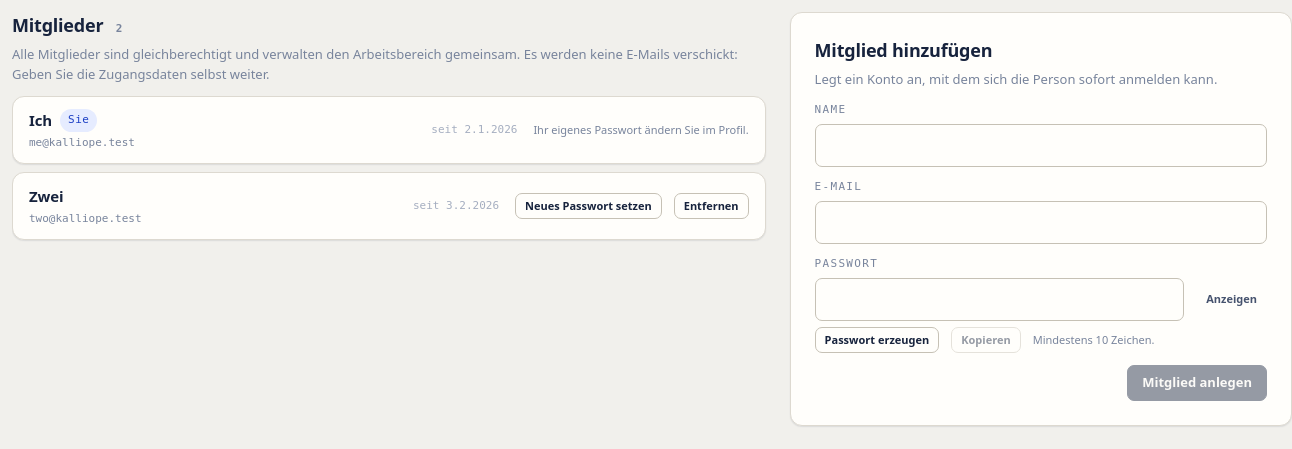
members › sets a new password for another member
Click the button "Neues Passwort setzen".
click(588, 206)  # box [515,193,662,219]
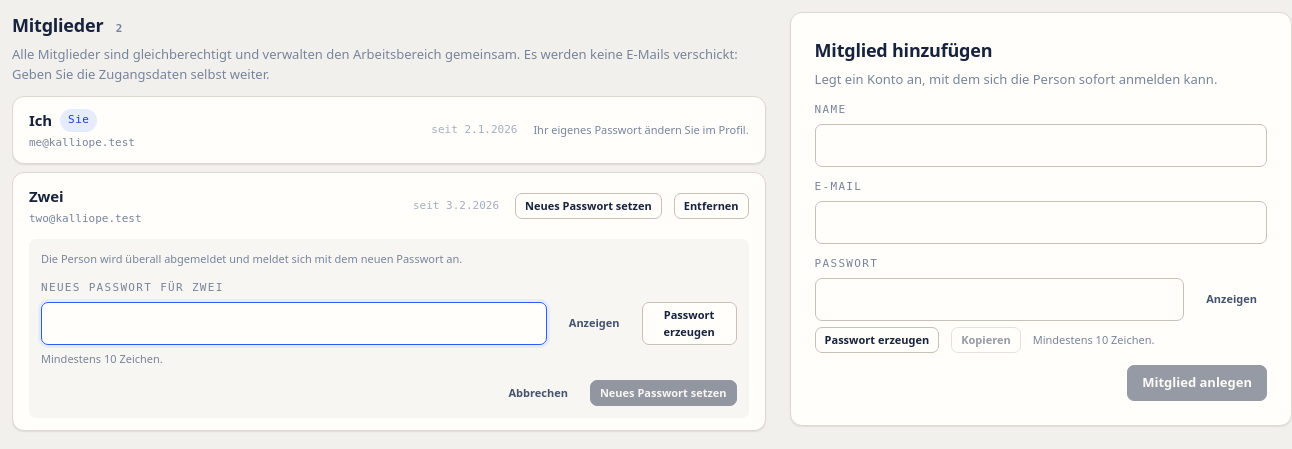
Type "another-password" into the password field with id "reset-u2".
click(294, 324); type("another-password")  # box [41,302,547,345]
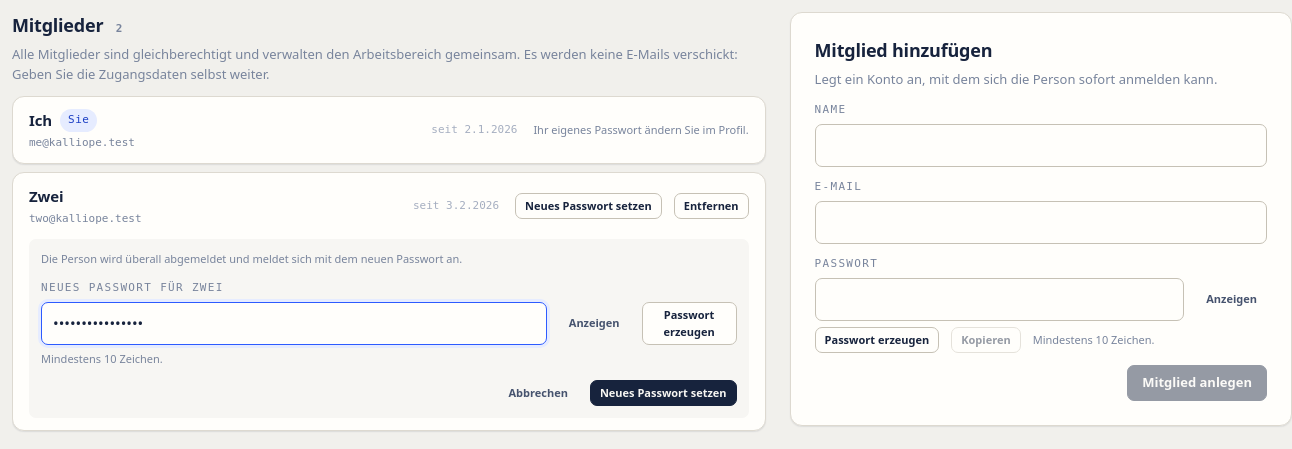
Submit the 2nd form, box [29,239,749,418]
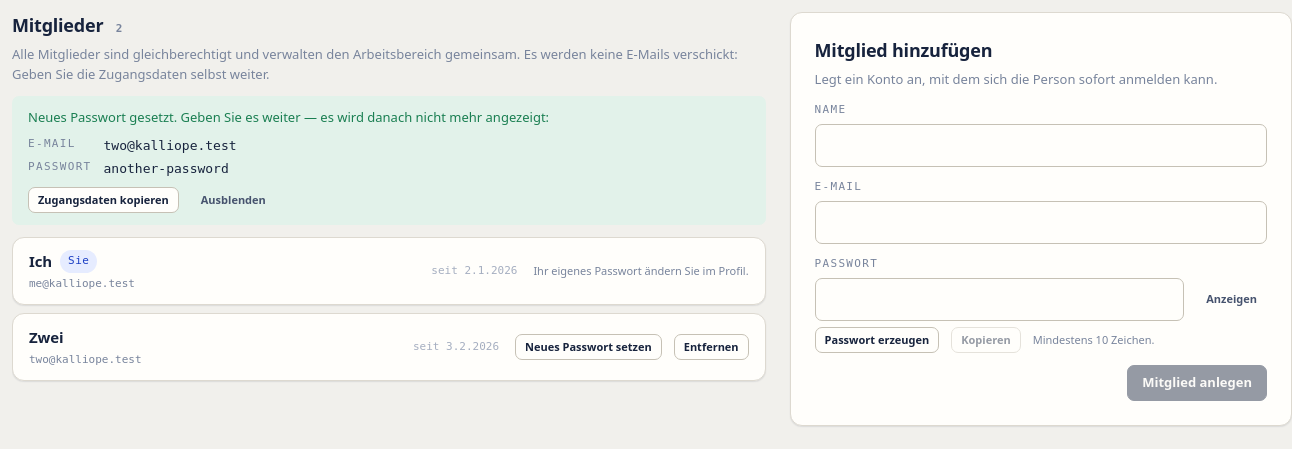
Now the message with class "handover" shows "another-password", box [104,161,229,176]
